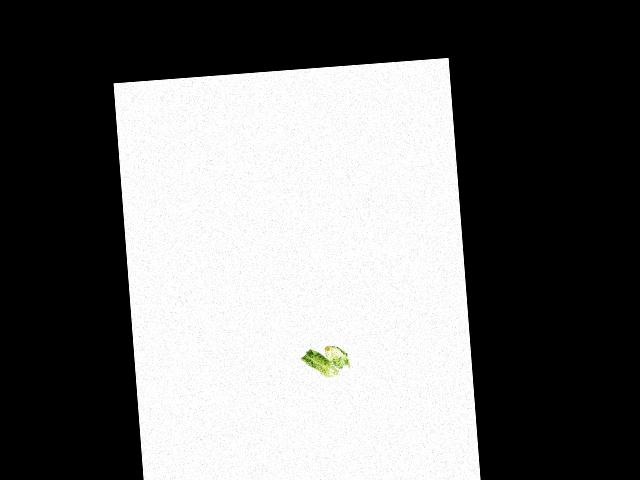lettuce: (322, 340, 351, 371)
